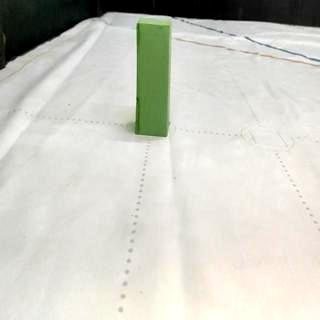greenbox: (134, 14, 172, 137)
